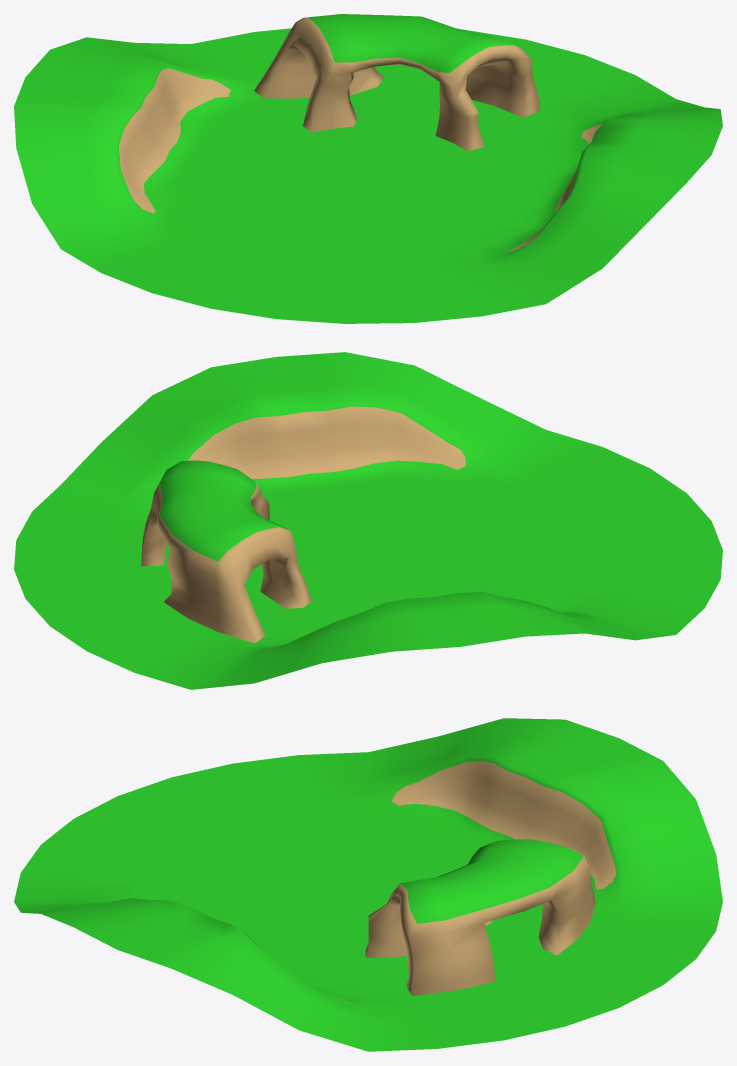
File: LevelProto01.fbx
3 views of the same model, one above another, from view 1: azimuth 30°, elevation 25°; view 2: azimuth 150°, elevation 25°; view 3: azimuth 270°, elevation 25° (orthographic).
Visible parts, largest first — view 1: LevelPROTO1, RockTunnel01; view 2: LevelPROTO1, RockTunnel01; view 3: LevelPROTO1, RockTunnel01.
Boxes of the visible parts, left/top/right/bottom form: LevelPROTO1: left=14, top=28, right=722, bottom=323; RockTunnel01: left=254, top=14, right=539, bottom=151; LevelPROTO1: left=14, top=352, right=722, bottom=689; RockTunnel01: left=141, top=460, right=311, bottom=643; LevelPROTO1: left=14, top=718, right=722, bottom=1051; RockTunnel01: left=365, top=839, right=595, bottom=995.
Size of the model in its own units: 100 by 13.74 by 100.
